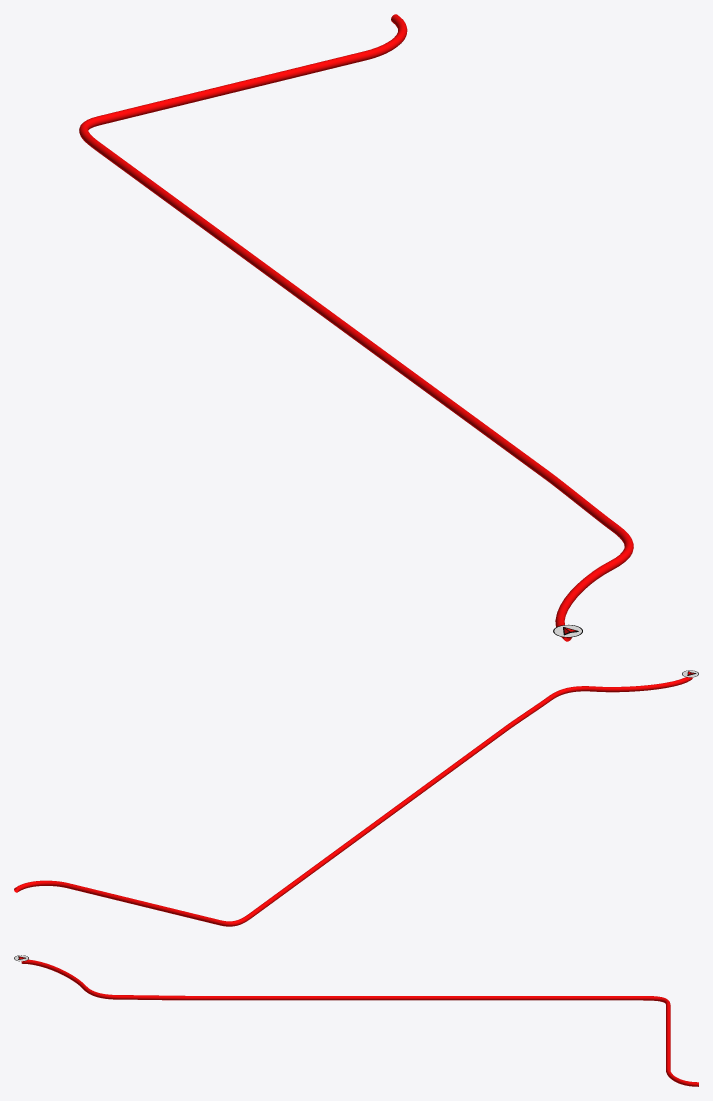
File: route_483e306a-3dc6-4b4f-9ee8-89a4c5710bb5_de_single.glb
3 renders of one model, top to bottom at view 1: azimuth 30°, elevation 25°; view 2: azimuth 150°, elevation 25°; view 3: azimuth 270°, elevation 25°, orthographic. The views are drawn at different scales.
Visible parts, largest first — view 1: B8, Abteil 2; view 2: B8, Abteil 2; view 3: B8, Abteil 2.
Part boxes in pixels (x1,y1,x2,y2): B8, Abteil 2: [79, 14, 633, 641]; B8, Abteil 2: [14, 677, 692, 926]; B8, Abteil 2: [21, 959, 698, 1086].
Bounding box in the file's own units: 5.19 × 0.1062 × 11.81.
